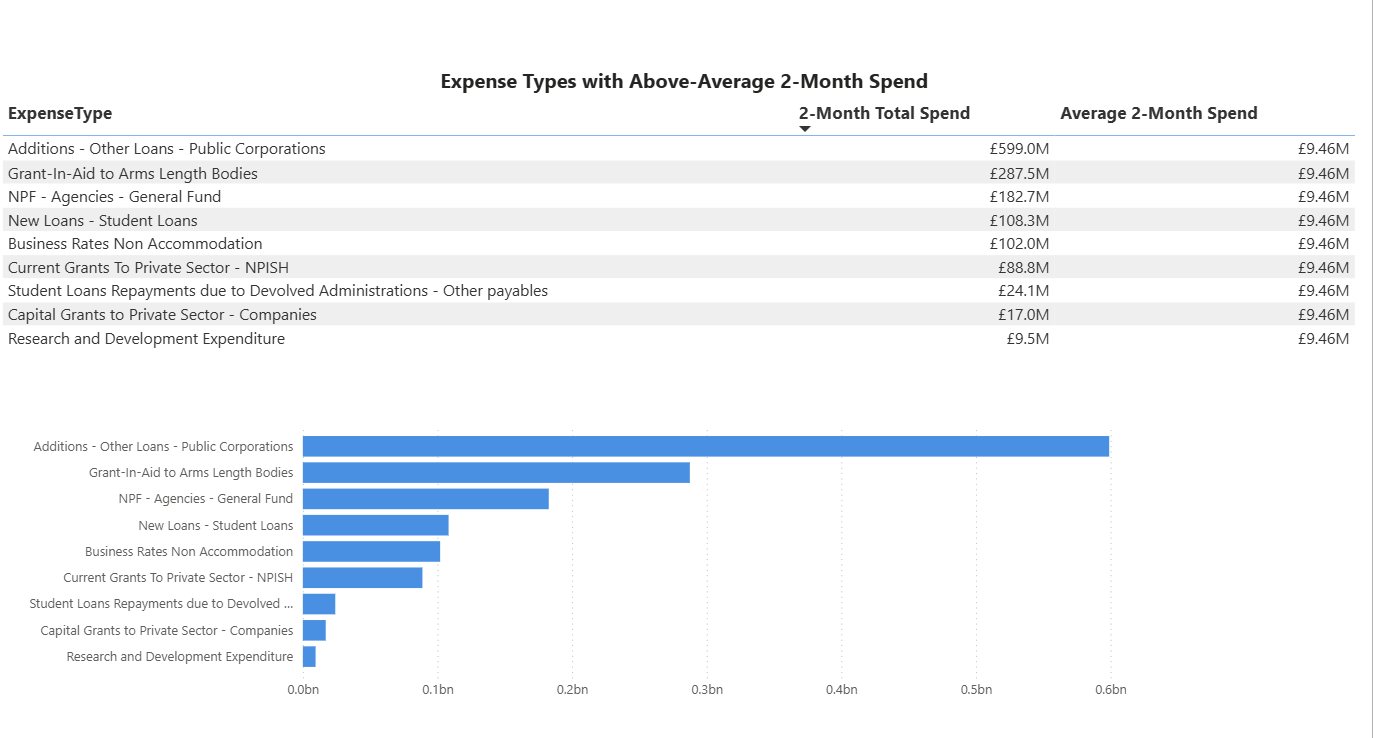

This screenshot's page, from the dashboard's own definition file:
{"tool":"powerbi","page":{"name":"Page 2","canvas":[1280,720],"ordinal":1},"visuals":[{"type":"tableEx","title":"Expense Types with Above-Average 2-Month Spend","fields":{"Values":["vw_ExpenseTypeAboveAvg2Month.ExpenseType","Sum(vw_ExpenseTypeAboveAvg2Month.TwoMonthTotal)","Sum(vw_ExpenseTypeAboveAvg2Month.AvgTwoMonth)"]},"box":[0,91.9,1280.2,305.8],"z":0},{"type":"clusteredBarChart","fields":{"Y":["Sum(vw_ExpenseTypeAboveAvg2Month.2-Month Total Spend)"],"Category":["vw_ExpenseTypeAboveAvg2Month.ExpenseType"]},"box":[11.6,412.8,1045.4,276.7],"z":1000}]}

Visuals, with their boxes on the page's 1280x720 design canvas (x1, y1, x2, y2). These are canvas units, not pixel positions in the 1378x738 screenshot, which may show the page scaled, cropped or inside an application window:
"Expense Types with Above-Average 2-Month Spend" tableEx: locate(0, 92, 1280, 398)
clusteredBarChart - Sum(vw_ExpenseTypeAboveAvg2Month.2-Month Total Spend) x vw_ExpenseTypeAboveAvg2Month.ExpenseType: locate(12, 413, 1057, 690)
